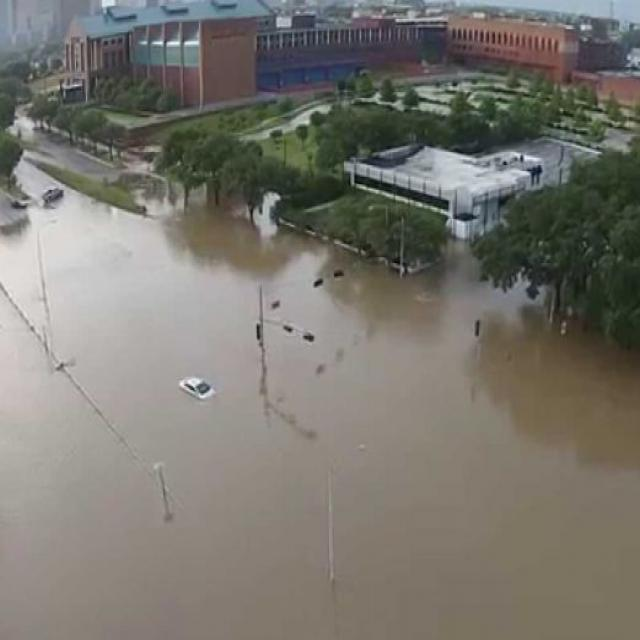flood: (0, 160, 640, 640)
house: (356, 140, 532, 244), (68, 17, 260, 88), (446, 19, 572, 74)
